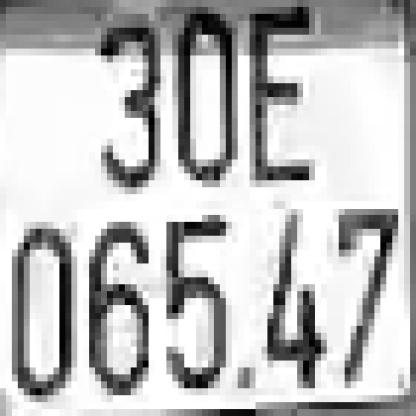0: (12, 222, 77, 395), (172, 14, 232, 187)
3: (101, 28, 160, 201)
4: (261, 208, 321, 381)
5: (166, 215, 226, 388)
6: (89, 215, 149, 388)
7: (333, 208, 392, 374)
E: (244, 14, 321, 187)
